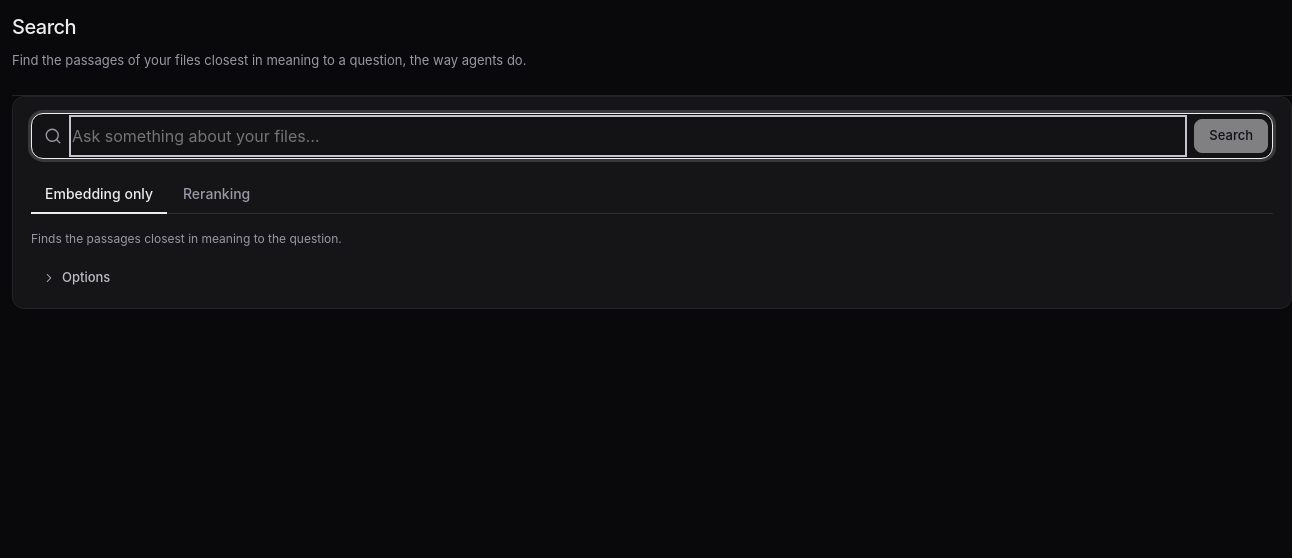
Scenario: SearchPage › shows the field error the server returns for the candidates
Click the tab "Reranking" at (217, 194), box [169,175,264,214]
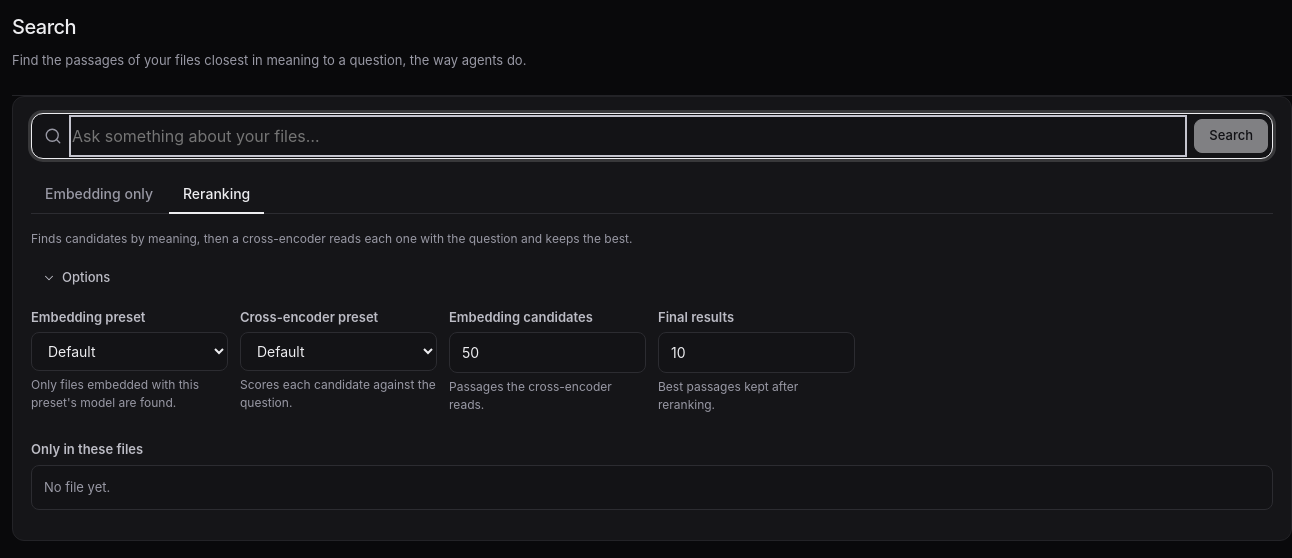
Type "green tea" into the field named "Search" at (628, 136), box [72,118,1184,154]
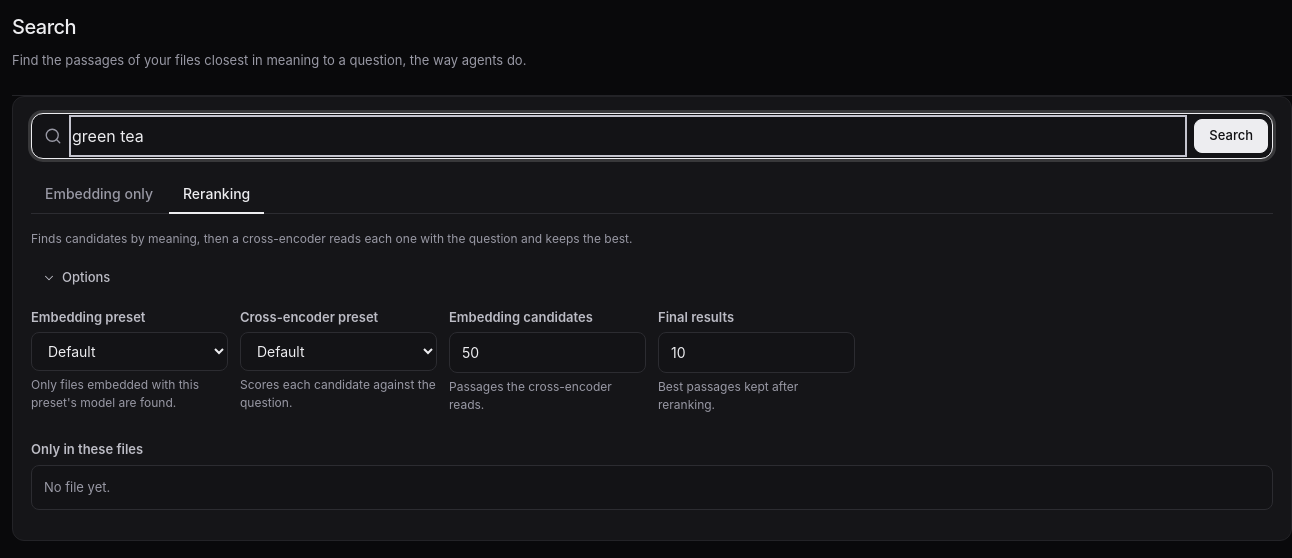
Click the button "Search" at (1231, 136), box [1194,119,1268,153]
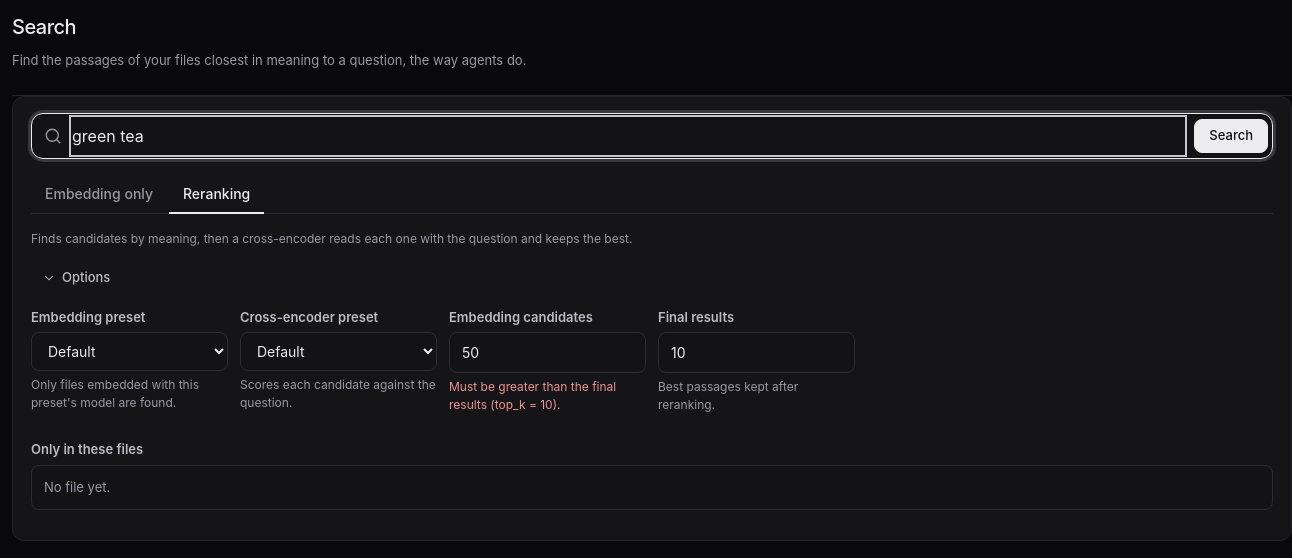
Expected: the text "Must be greater than the final results (top_k = 10)." is shown, [449,379,616,412]
